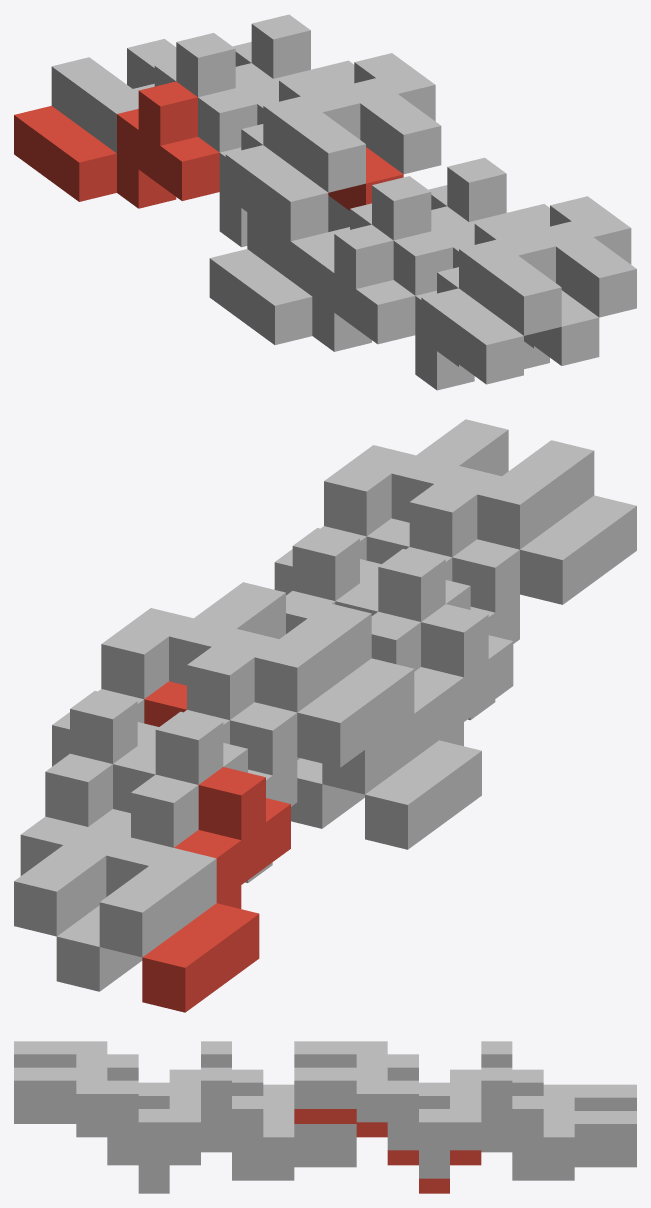
The model's file is tiling.obj.
3 views of the same model, one above another, from view 1: azimuth 30°, elevation 25°; view 2: azimuth 150°, elevation 25°; view 3: azimuth 270°, elevation 25° (orthographic). The views are drawn at different scales.
Visible parts, largest first — view 1: copy_1_domain_2, copy_1_domain_1, copy_1_domain_3, copy_1_domain_4, copy_2_domain_3, copy_2_domain_4, copy_2_domain_2, copy_2_domain_7, copy_2_domain_8, copy_2_domain_1, copy_1_domain_7, copy_1_domain_8 (+4 smaller); view 2: copy_1_domain_3, copy_1_domain_7, copy_1_domain_1, copy_1_domain_2, copy_2_domain_4, copy_2_domain_3, copy_2_domain_1, copy_2_domain_2, copy_1_domain_4, copy_2_domain_7, copy_2_domain_8, copy_1_domain_5 (+4 smaller); view 3: copy_2_domain_7, copy_2_domain_8, copy_1_domain_7, copy_1_domain_8, copy_1_domain_3, copy_2_domain_4, copy_2_domain_3, copy_1_domain_4, copy_2_domain_6, copy_2_domain_5, copy_1_domain_5, copy_1_domain_6.
Boxes of the visible parts, x1,y1,x2,y2 form: copy_1_domain_2: (209, 224, 415, 351); copy_1_domain_1: (14, 81, 219, 208); copy_1_domain_3: (51, 33, 257, 153); copy_1_domain_4: (247, 176, 452, 295); copy_2_domain_3: (236, 71, 365, 192); copy_2_domain_4: (431, 214, 561, 335); copy_2_domain_2: (415, 267, 523, 390); copy_2_domain_7: (311, 53, 441, 174); copy_2_domain_8: (507, 196, 636, 317); copy_2_domain_1: (219, 124, 328, 247); copy_1_domain_7: (127, 14, 313, 88); copy_1_domain_8: (328, 157, 509, 231); copy_1_domain_3: (99, 711, 247, 957); copy_1_domain_7: (14, 691, 158, 936); copy_1_domain_1: (142, 767, 290, 1012); copy_1_domain_2: (365, 604, 513, 849); copy_2_domain_4: (360, 440, 594, 587); copy_2_domain_3: (138, 603, 371, 750); copy_2_domain_1: (230, 658, 414, 882); copy_2_domain_2: (452, 495, 636, 720); copy_1_domain_4: (322, 549, 470, 794); copy_2_domain_7: (52, 582, 285, 766); copy_2_domain_8: (274, 419, 508, 595); copy_1_domain_5: (56, 746, 155, 991); copy_2_domain_7: (294, 1067, 481, 1178); copy_2_domain_8: (14, 1067, 200, 1178); copy_1_domain_7: (450, 1067, 636, 1165); copy_1_domain_8: (169, 1067, 356, 1165); copy_1_domain_3: (450, 1041, 636, 1110); copy_2_domain_4: (14, 1041, 200, 1108); copy_2_domain_3: (294, 1041, 481, 1108); copy_1_domain_4: (169, 1041, 294, 1110); copy_2_domain_6: (14, 1109, 200, 1193); copy_2_domain_5: (294, 1109, 481, 1193); copy_1_domain_5: (481, 1137, 636, 1180); copy_1_domain_6: (201, 1137, 356, 1180).
Size of the model in its own units: 6 by 4 by 20.
